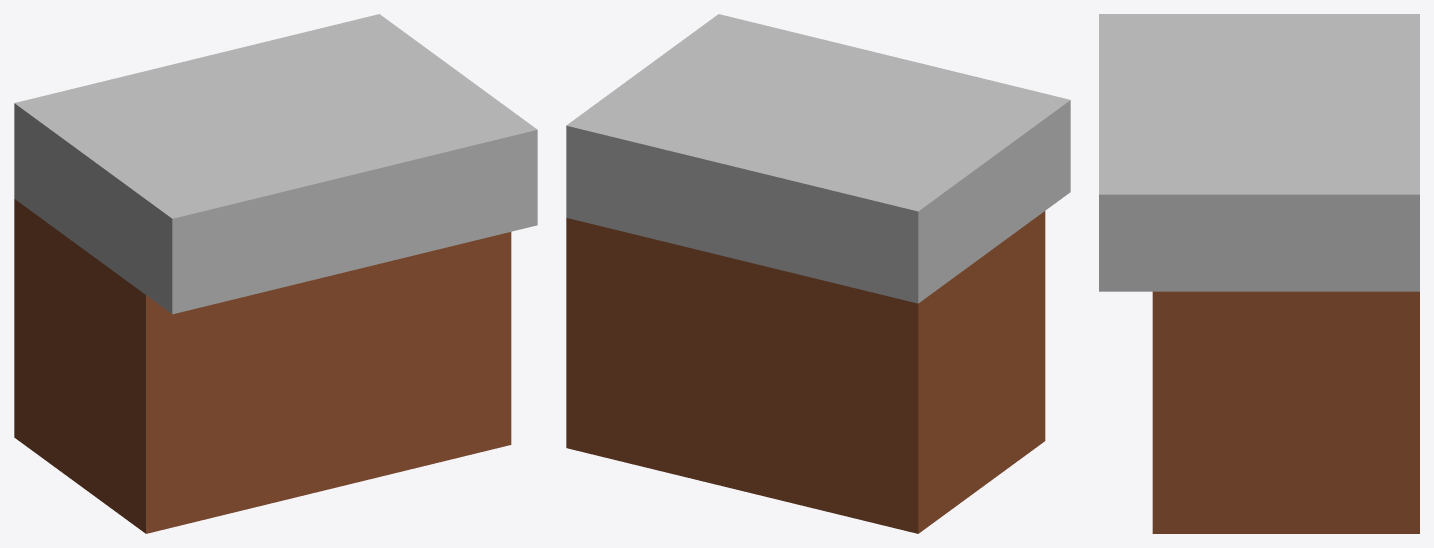
Rendered from kitchen_top.fbx.
3 renders of one model, left to right at view 1: azimuth 30°, elevation 25°; view 2: azimuth 150°, elevation 25°; view 3: azimuth 270°, elevation 25°, orthographic. The views are drawn at different scales.
Visible parts, largest first — view 1: pCube1; view 2: pCube1; view 3: pCube1.
Part boxes in pixels (box(x1,y1,x2,y2)): pCube1: box(14, 14, 537, 533); pCube1: box(566, 14, 1070, 533); pCube1: box(1099, 14, 1419, 533).
Size of the model in its own units: 10 by 8.75 by 7.5.
Materials: 1 (1 with a texture image).
